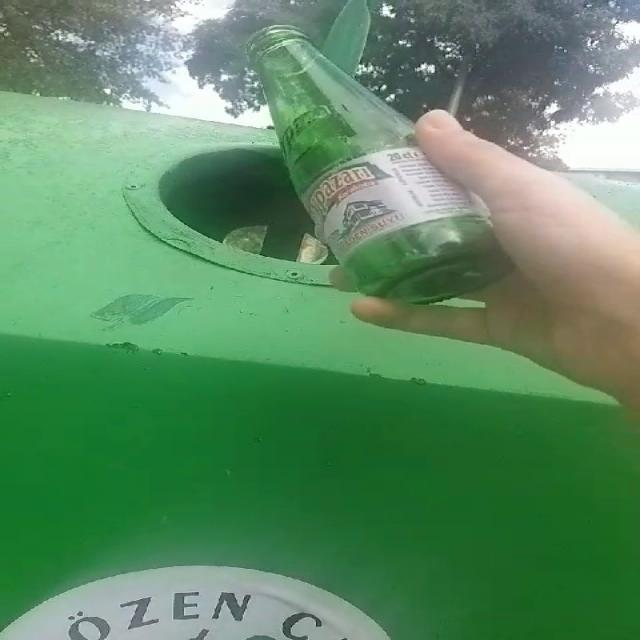glass: (248, 25, 511, 304)
